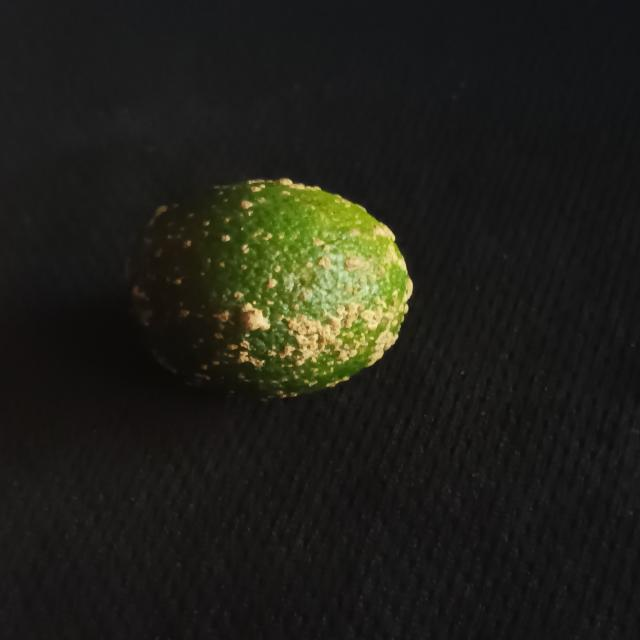scab: (118, 171, 422, 402)
